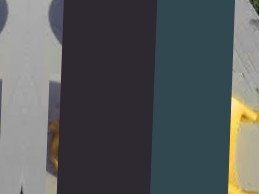chock: (90, 0, 223, 127), (135, 69, 259, 194), (45, 74, 169, 194)
